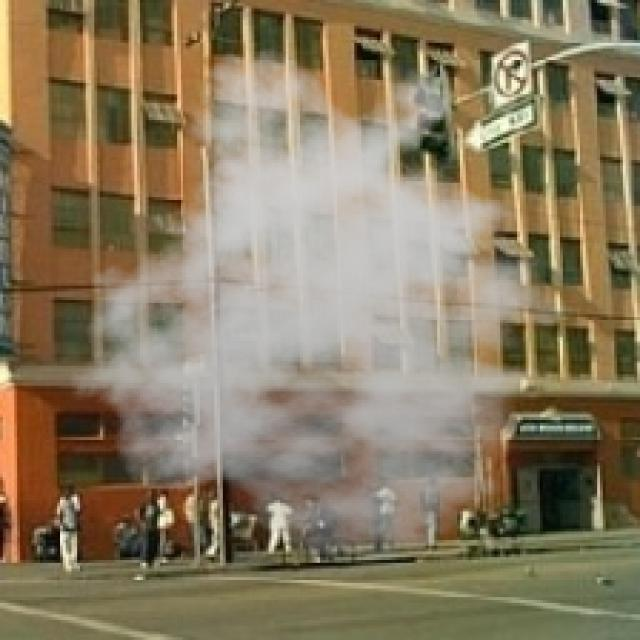smoke: (57, 46, 600, 560)
